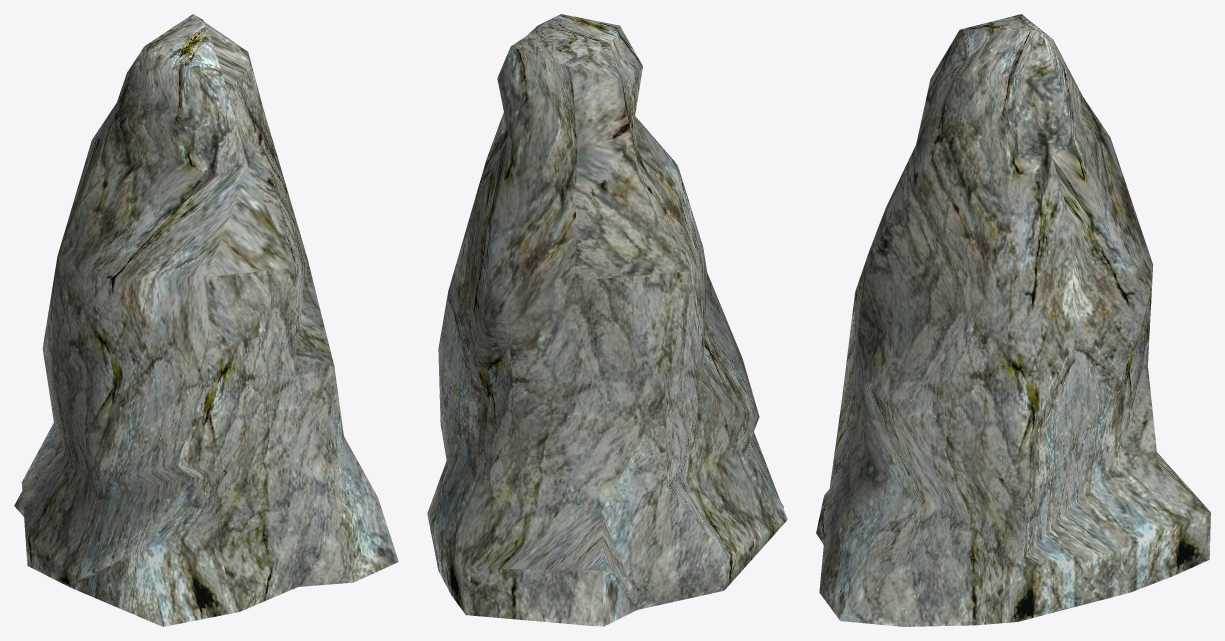
The model's file is general_obj_bigstone10.fbx.
The picture shows the model from 3 angles, left to right: view 1: azimuth 30°, elevation 25°; view 2: azimuth 150°, elevation 25°; view 3: azimuth 270°, elevation 25°; orthographic projection. The views are drawn at different scales.
Visible parts, largest first — view 1: Sphere01fs02; view 2: Sphere01fs02; view 3: Sphere01fs02.
Part boxes in pixels (left/top/right/bottom): Sphere01fs02: left=14, top=14, right=398, bottom=626; Sphere01fs02: left=427, top=14, right=787, bottom=626; Sphere01fs02: left=816, top=14, right=1210, bottom=626.
Size of the model in its own units: 13.02 by 21.51 by 14.32.
